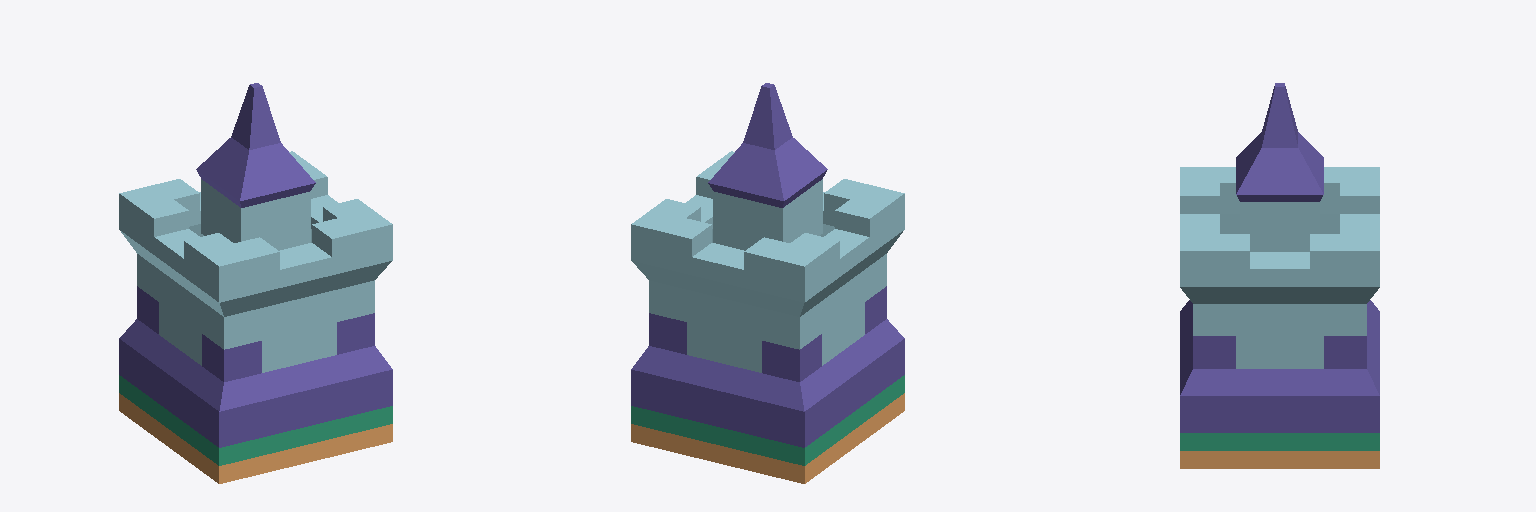
The model's file is tile_tower_squareC.obj.
The picture shows the model from 3 angles: view 1: azimuth 30°, elevation 25°; view 2: azimuth 150°, elevation 25°; view 3: azimuth 270°, elevation 25°; orthographic projection.
Parts seen in each view (by area): view 1: towerSquare_sampleC, tile; view 2: towerSquare_sampleC, tile; view 3: towerSquare_sampleC, tile.
Boxes of the visible parts, <box> form: towerSquare_sampleC: <box>119,83,392,447</box>; tile: <box>119,375,392,483</box>; towerSquare_sampleC: <box>631,83,904,447</box>; tile: <box>631,375,904,483</box>; towerSquare_sampleC: <box>1180,83,1379,432</box>; tile: <box>1180,433,1379,468</box>.
Bounding box in the file's own units: 1 × 1.88 × 1.